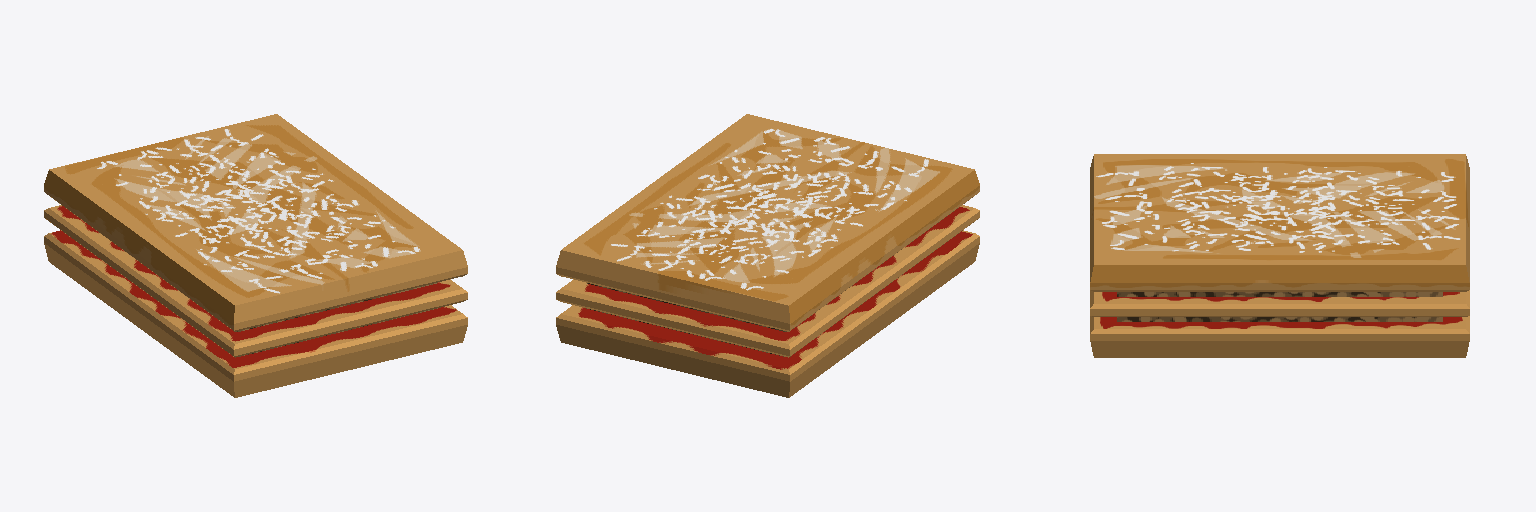
3 renders of one model, left to right at view 1: azimuth 30°, elevation 25°; view 2: azimuth 150°, elevation 25°; view 3: azimuth 270°, elevation 25°, orthographic.
Parts seen in each view (by area): view 1: lasana comida; view 2: lasana comida; view 3: lasana comida.
Boxes of the visible parts, x1,y1,x2,y2 form: lasana comida: [44, 114, 467, 397]; lasana comida: [556, 114, 979, 397]; lasana comida: [1090, 154, 1469, 357].
Bounding box in the file's own units: 0.4104 × 0.1546 × 0.5754.
1 materials, 1 textured.